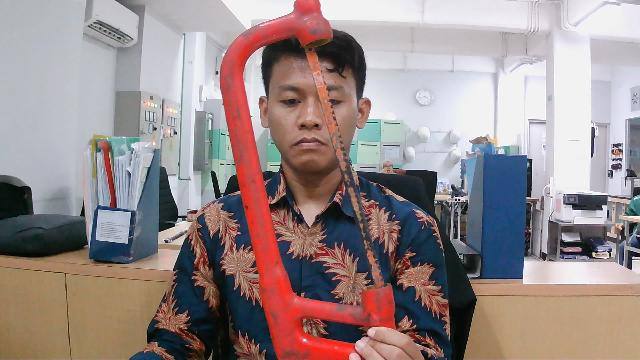gergaji_besi: (211, 0, 401, 360)
